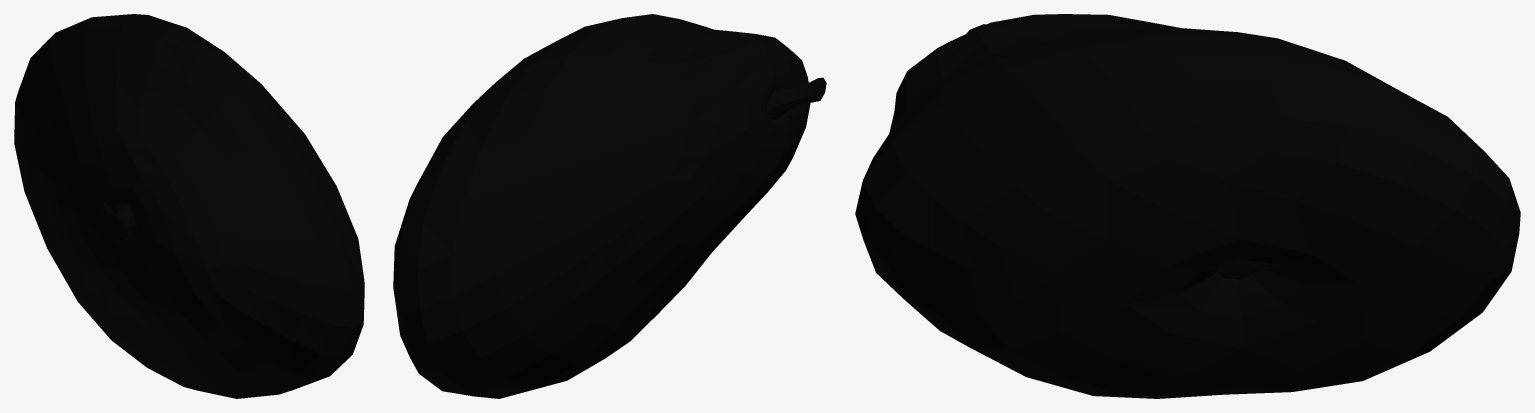
Rendered from pear_apple_2.glb.
The picture shows the model from 3 angles, left to right: view 1: azimuth 30°, elevation 25°; view 2: azimuth 150°, elevation 25°; view 3: azimuth 270°, elevation 25°; orthographic projection. The views are drawn at different scales.
Parts seen in each view (by area): view 1: pear_apple_2; view 2: pear_apple_2; view 3: pear_apple_2.
Part boxes in pixels (x1,y1,x2,y2): pear_apple_2: (14, 14, 364, 398); pear_apple_2: (393, 14, 826, 398); pear_apple_2: (855, 14, 1520, 398).
Bounding box in the file's own units: 0.0485 × 0.0607 × 0.1035.
Materials: 1 (1 with a texture image).
